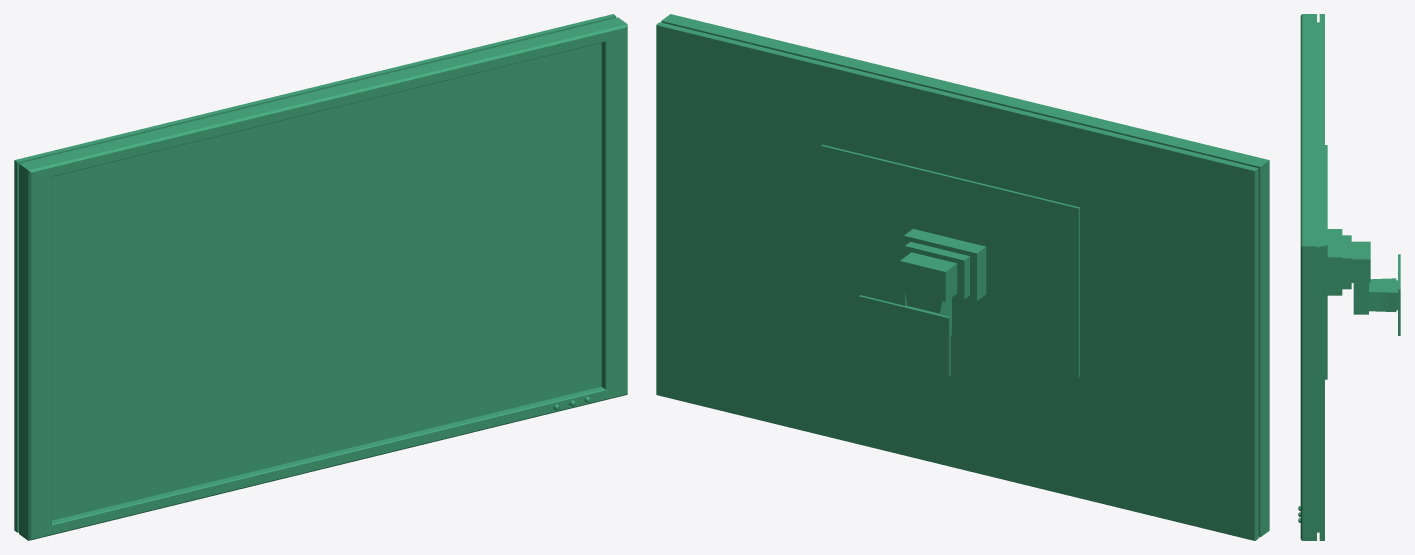
The model's file is monitor.fbx.
3 views of the same model, side by side, from view 1: azimuth 30°, elevation 25°; view 2: azimuth 150°, elevation 25°; view 3: azimuth 270°, elevation 25° (orthographic). The views are drawn at different scales.
Parts seen in each view (by area): view 1: pCylinder46; view 2: pCylinder46; view 3: pCylinder46.
Part boxes in pixels (x1,y1,x2,y2): pCylinder46: (14, 14, 627, 540); pCylinder46: (656, 14, 1269, 540); pCylinder46: (1298, 14, 1400, 540).
Bounding box in the file's own units: 68.53 × 40.5 × 12.71.
